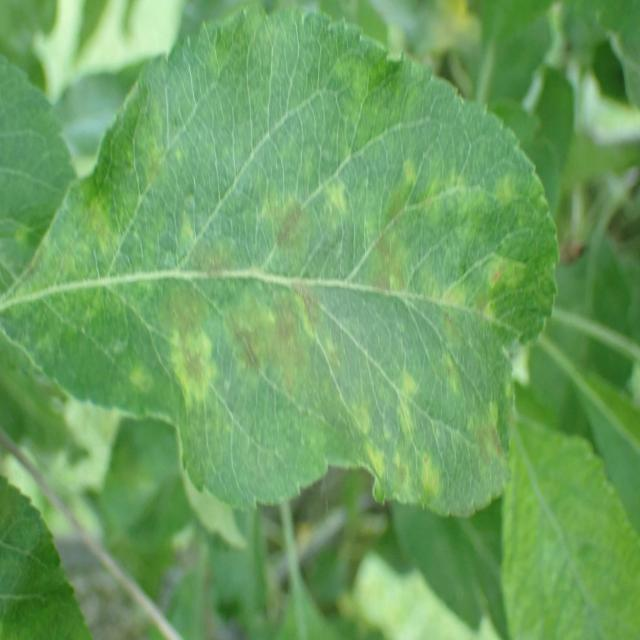scab: (2, 147, 547, 491)
